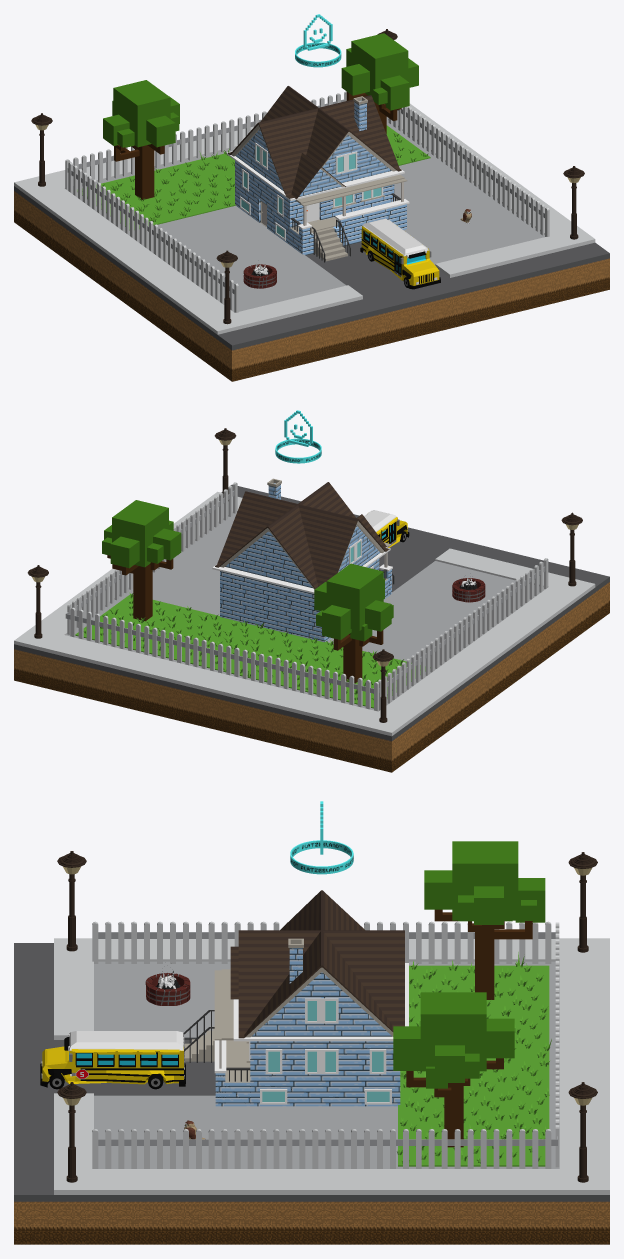
3 views of the same model, one above another, from view 1: azimuth 30°, elevation 25°; view 2: azimuth 150°, elevation 25°; view 3: azimuth 270°, elevation 25° (orthographic). The views are drawn at different scales.
Parts seen in each view (by area): view 1: Cube.004, Cube.547, VEHICLES_SCHOOL_BUS, TYPE_PREMIUM, OBJRANDOM_CAMPFIRE; view 2: Cube.004, Cube.547, VEHICLES_SCHOOL_BUS, TYPE_PREMIUM, OBJRANDOM_CAMPFIRE; view 3: Cube.004, Cube.547, VEHICLES_SCHOOL_BUS, OBJRANDOM_CAMPFIRE, TYPE_PREMIUM.
Part boxes in pixels (left/top/right/bottom): Cube.004: left=14, top=29, right=609, bottom=381; Cube.547: left=226, top=86, right=409, bottom=262; VEHICLES_SCHOOL_BUS: left=360, top=218, right=440, bottom=289; TYPE_PREMIUM: left=295, top=14, right=341, bottom=67; OBJRANDOM_CAMPFIRE: left=243, top=262, right=276, bottom=288; Cube.004: left=14, top=428, right=609, bottom=772; Cube.547: left=212, top=478, right=394, bottom=642; VEHICLES_SCHOOL_BUS: left=364, top=510, right=409, bottom=547; TYPE_PREMIUM: left=275, top=410, right=321, bottom=463; OBJRANDOM_CAMPFIRE: left=452, top=577, right=485, bottom=602; Cube.004: left=14, top=841, right=609, bottom=1244; Cube.547: left=183, top=890, right=408, bottom=1106; VEHICLES_SCHOOL_BUS: left=40, top=1031, right=185, bottom=1089; OBJRANDOM_CAMPFIRE: left=145, top=971, right=190, bottom=1005; TYPE_PREMIUM: left=290, top=801, right=353, bottom=874.
Size of the model in its own units: 4000 by 2567 by 4000.
38 materials, 5 textured.
